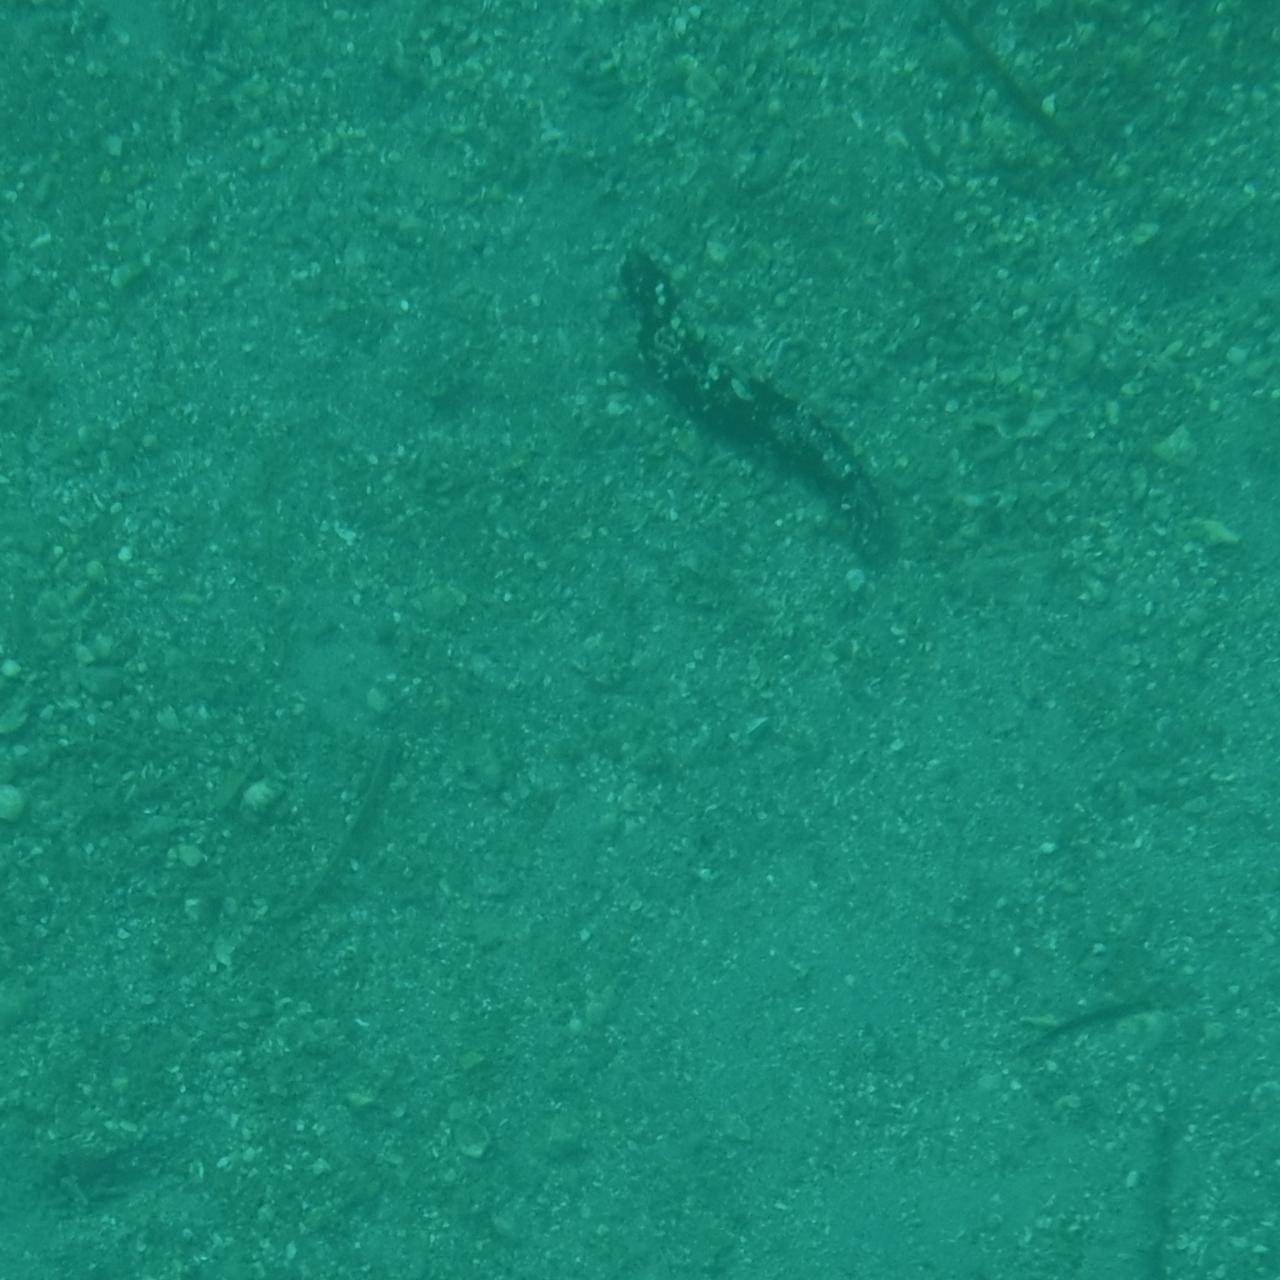Holothuria tubulosa: (614, 225, 926, 605), (1103, 846, 1280, 1210), (907, 1082, 1199, 1280), (200, 1055, 375, 1280), (1162, 0, 1280, 331), (0, 129, 182, 305), (0, 0, 280, 91), (1124, 1123, 1280, 1280), (1200, 0, 1280, 256), (1178, 0, 1280, 172), (0, 0, 182, 80)
